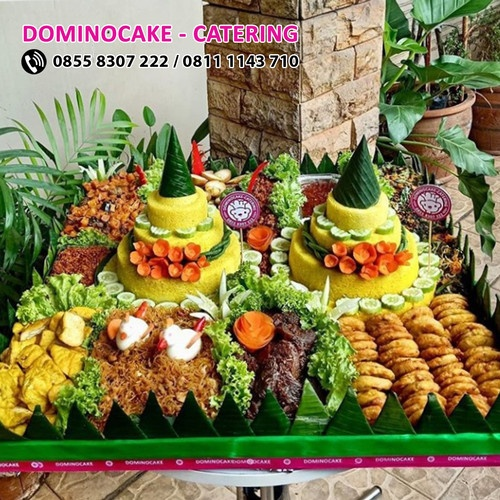nasi_tumpeng: (4, 117, 496, 434)
